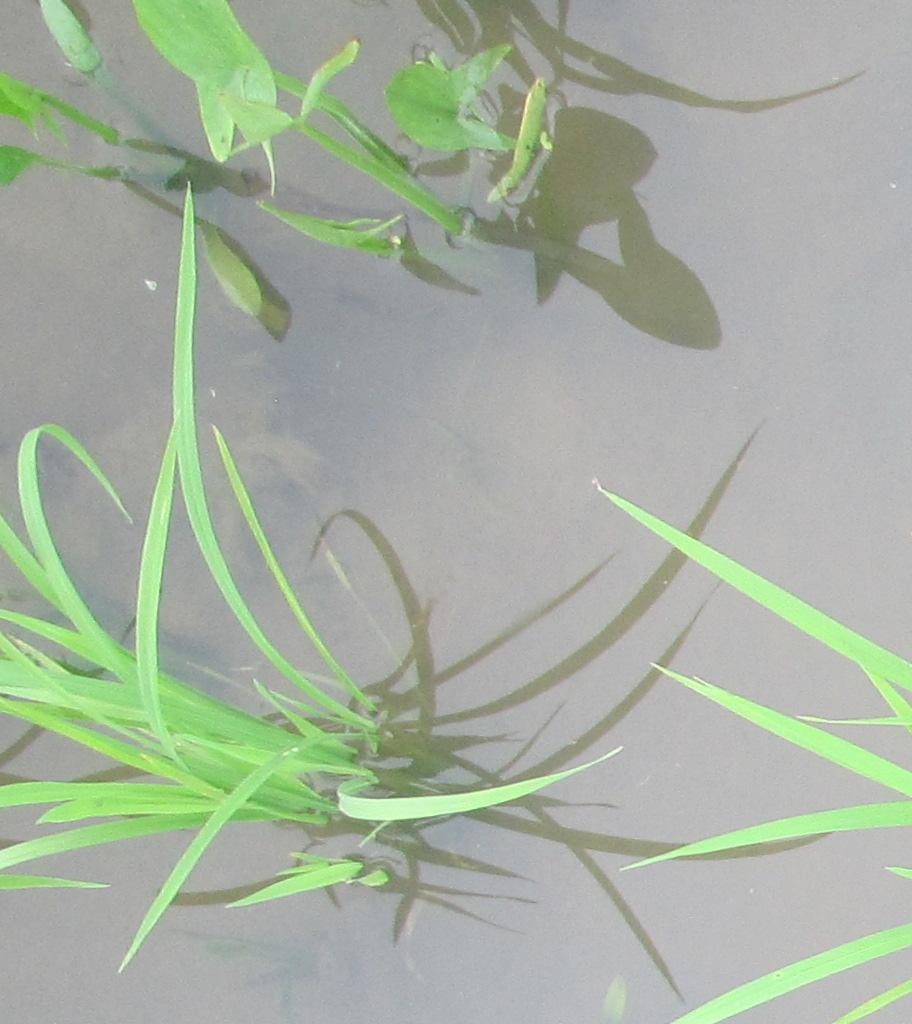Weed: (103, 10, 569, 210)
